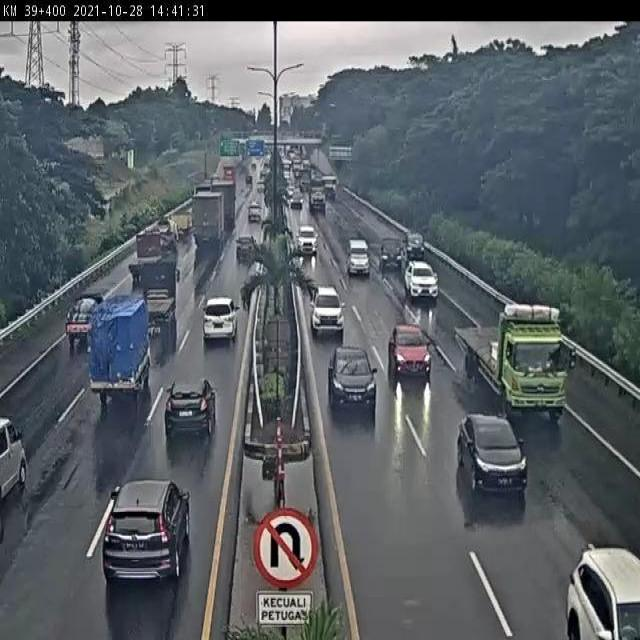car: (103, 477, 191, 583), (456, 413, 529, 495), (328, 347, 377, 413), (163, 379, 217, 437), (388, 324, 432, 381), (65, 292, 105, 348), (309, 285, 345, 336), (201, 296, 238, 340), (405, 261, 439, 300), (346, 239, 370, 276), (379, 238, 403, 270), (296, 225, 317, 255), (235, 235, 257, 262)
mid truck: (455, 302, 570, 418)
truck-m-: (86, 294, 151, 398), (130, 259, 179, 332), (128, 233, 163, 280), (152, 217, 178, 255)
